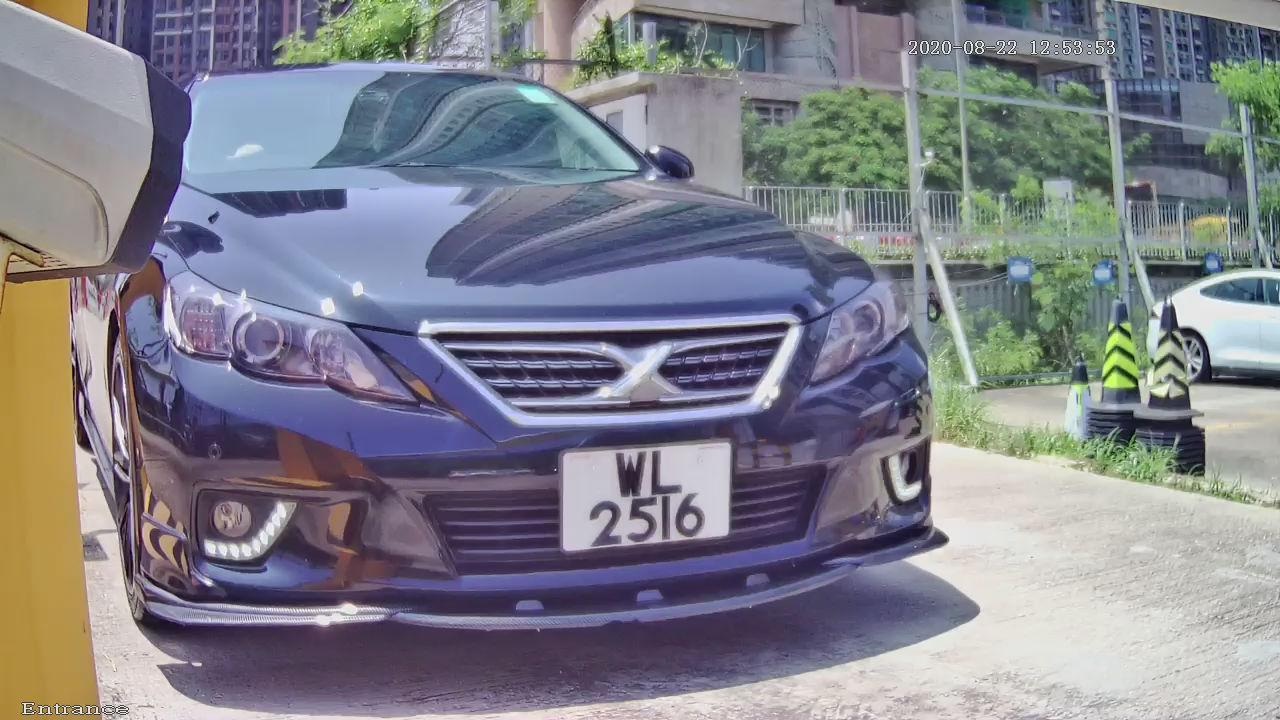Car: (29, 4, 983, 708)
License Plate: (543, 428, 743, 569)
